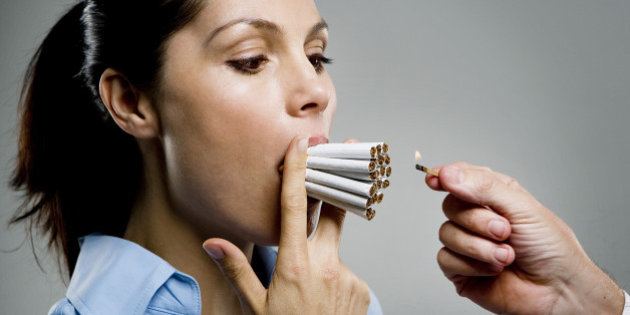cigarette: (296, 163, 386, 198), (300, 186, 382, 222), (307, 133, 397, 163)
